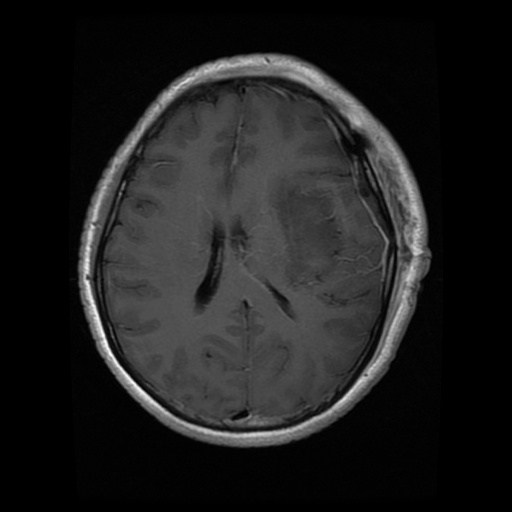glioma: (266, 171, 347, 290)
